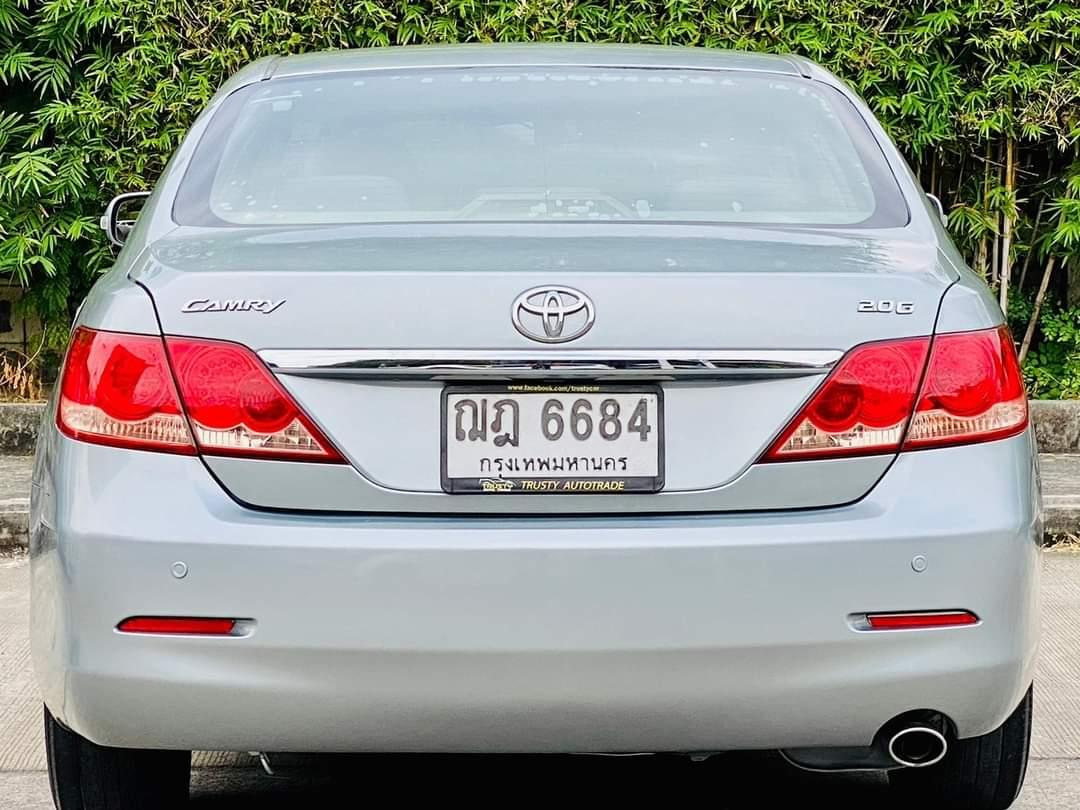license-plate: (438, 382, 668, 489)
